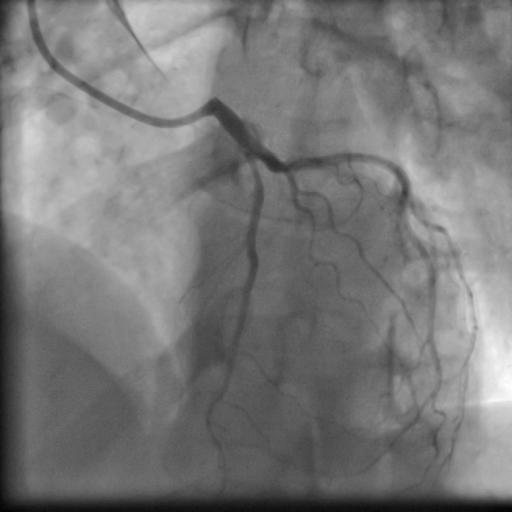Stenosis: (246, 155, 265, 196)
